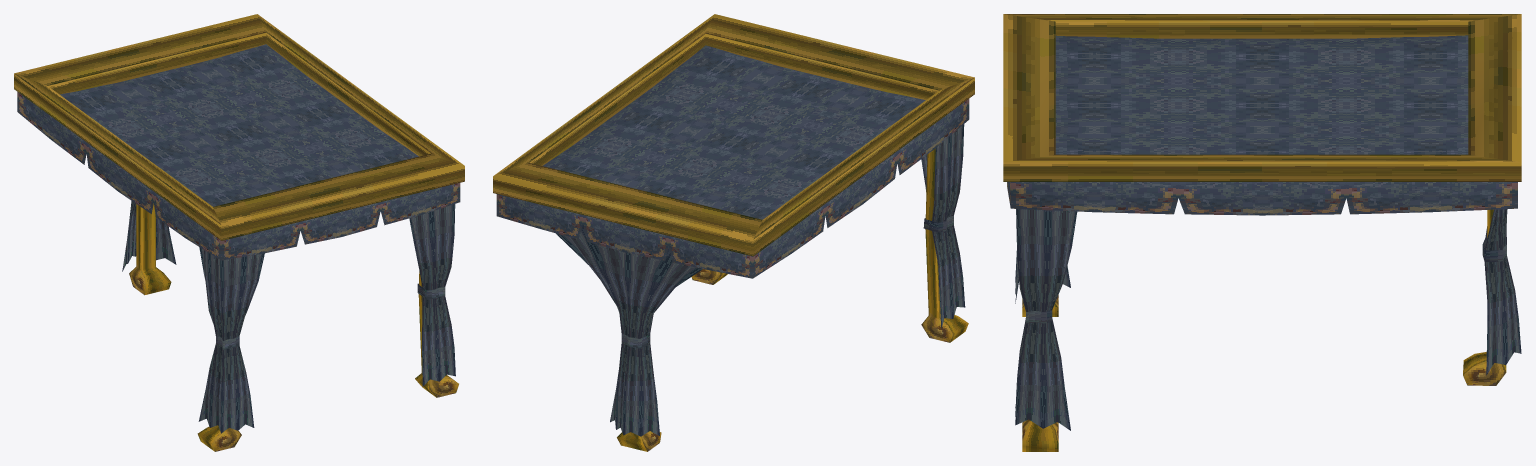
Rendered from o_ten1.glb.
3 renders of one model, left to right at view 1: azimuth 30°, elevation 25°; view 2: azimuth 150°, elevation 25°; view 3: azimuth 270°, elevation 25°, orthographic. The views are drawn at different scales.
Visible parts, largest first — view 1: o_ten1; view 2: o_ten1; view 3: o_ten1.
Part boxes in pixels (<box>): o_ten1: <box>14,14,464,451</box>; o_ten1: <box>493,14,974,451</box>; o_ten1: <box>1003,14,1521,451</box>.
Size of the model in its own units: 395 by 355 by 574.
Materials: 4 (4 with a texture image).
